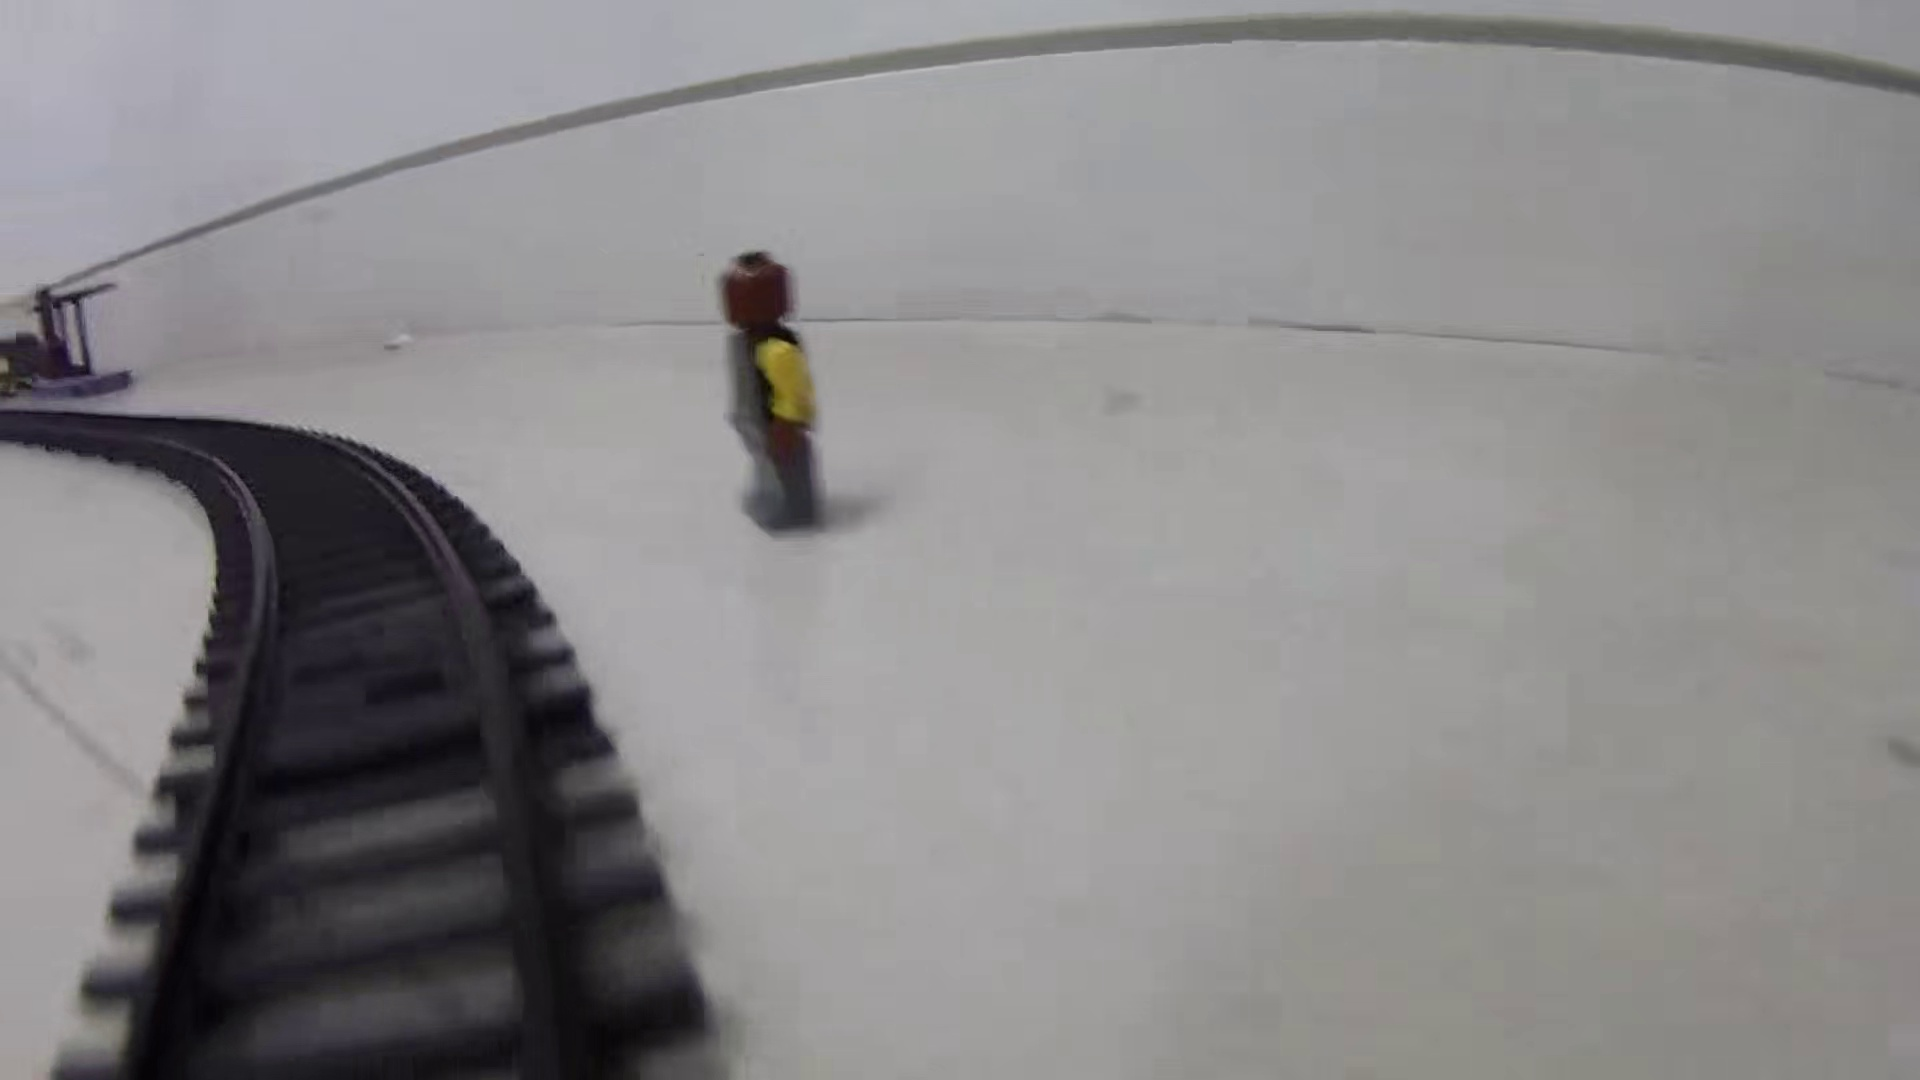people: (714, 248, 827, 537)
